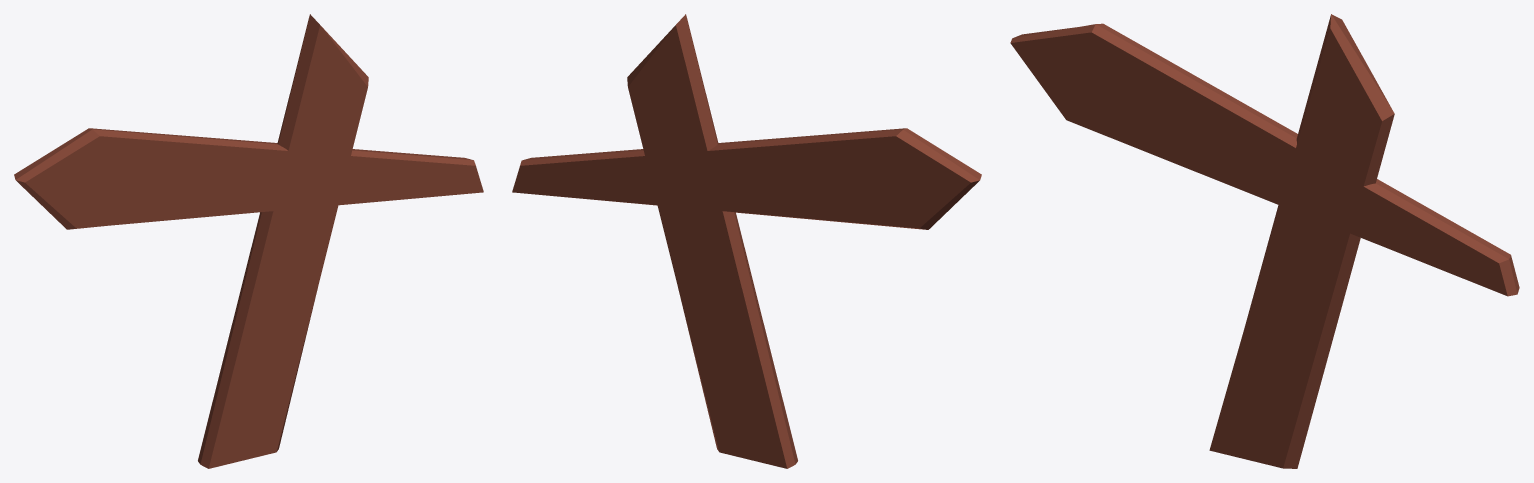
File: DirectionalSign.fbx
3 views of the same model, side by side, from view 1: azimuth 30°, elevation 25°; view 2: azimuth 150°, elevation 25°; view 3: azimuth 330°, elevation 25° (orthographic). The views are drawn at different scales.
Visible parts, largest first — view 1: DirectionalSign; view 2: DirectionalSign; view 3: DirectionalSign.
Part boxes in pixels (x1=…): DirectionalSign: x1=14, y1=14, x2=483, y2=468; DirectionalSign: x1=512, y1=14, x2=981, y2=468; DirectionalSign: x1=1010, y1=14, x2=1519, y2=468.
Size of the model in its own units: 2.93 by 2.57 by 0.1192.
